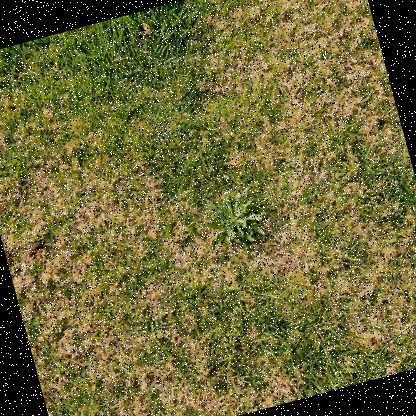Weeds: (192, 185, 271, 256)
